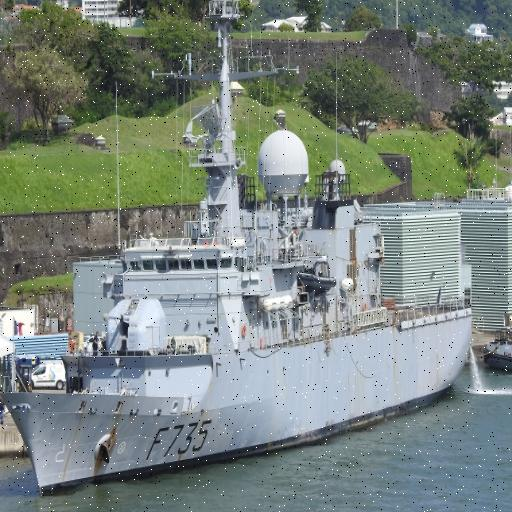Fragata: (1, 1, 478, 508)
